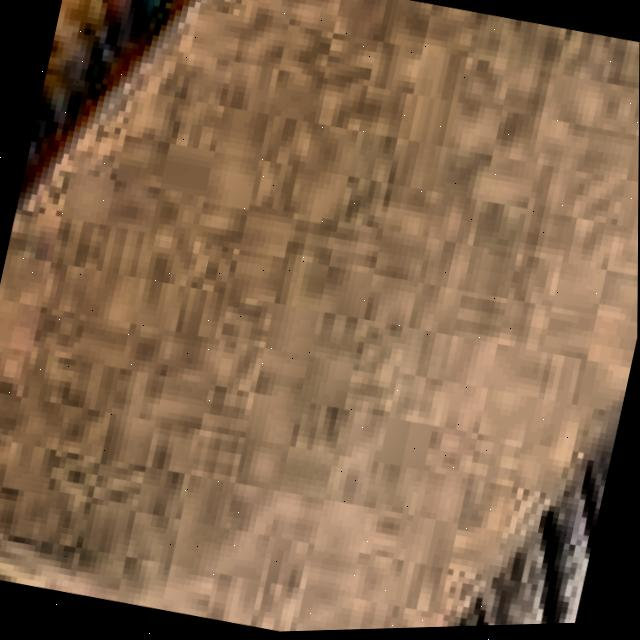paper: (0, 0, 640, 633)
